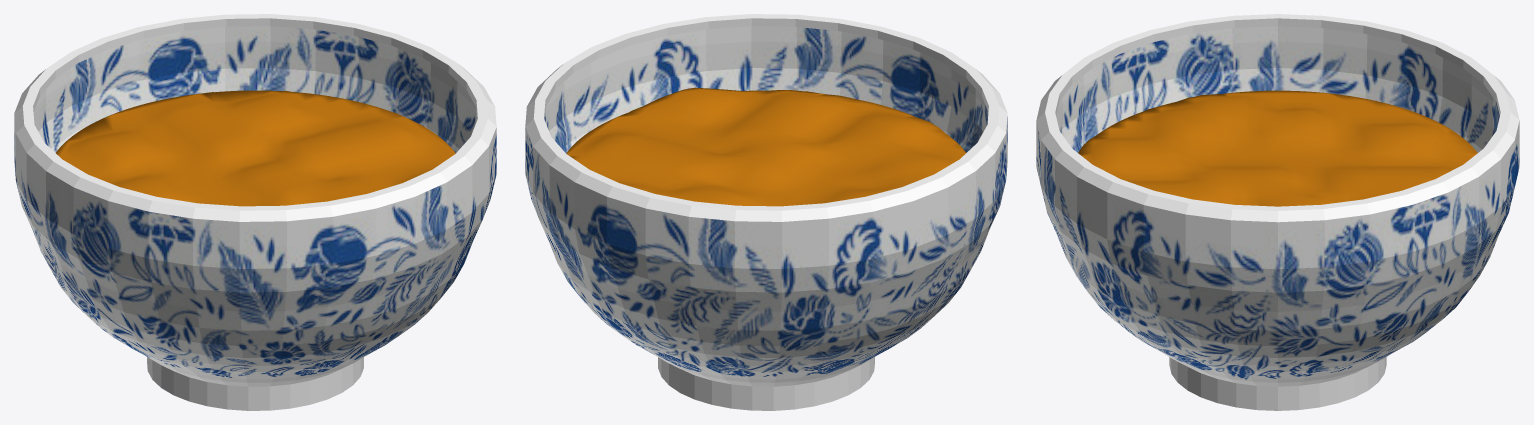
The model's file is Schaaltje-ei.obj.
3 renders of one model, left to right at view 1: azimuth 30°, elevation 25°; view 2: azimuth 150°, elevation 25°; view 3: azimuth 270°, elevation 25°, orthographic.
Visible parts, largest first — view 1: Cylinder_Material.001, vulling_Material.002; view 2: Cylinder_Material.001, vulling_Material.002; view 3: Cylinder_Material.001, vulling_Material.002.
Boxes of the visible parts, x1,y1,x2,y2 form: Cylinder_Material.001: (14,14,496,410); vulling_Material.002: (56,90,455,206); Cylinder_Material.001: (525,14,1007,410); vulling_Material.002: (566,87,965,206); Cylinder_Material.001: (1036,14,1519,410); vulling_Material.002: (1078,90,1477,206).
Size of the model in its own units: 21.6 by 12.46 by 21.6.
